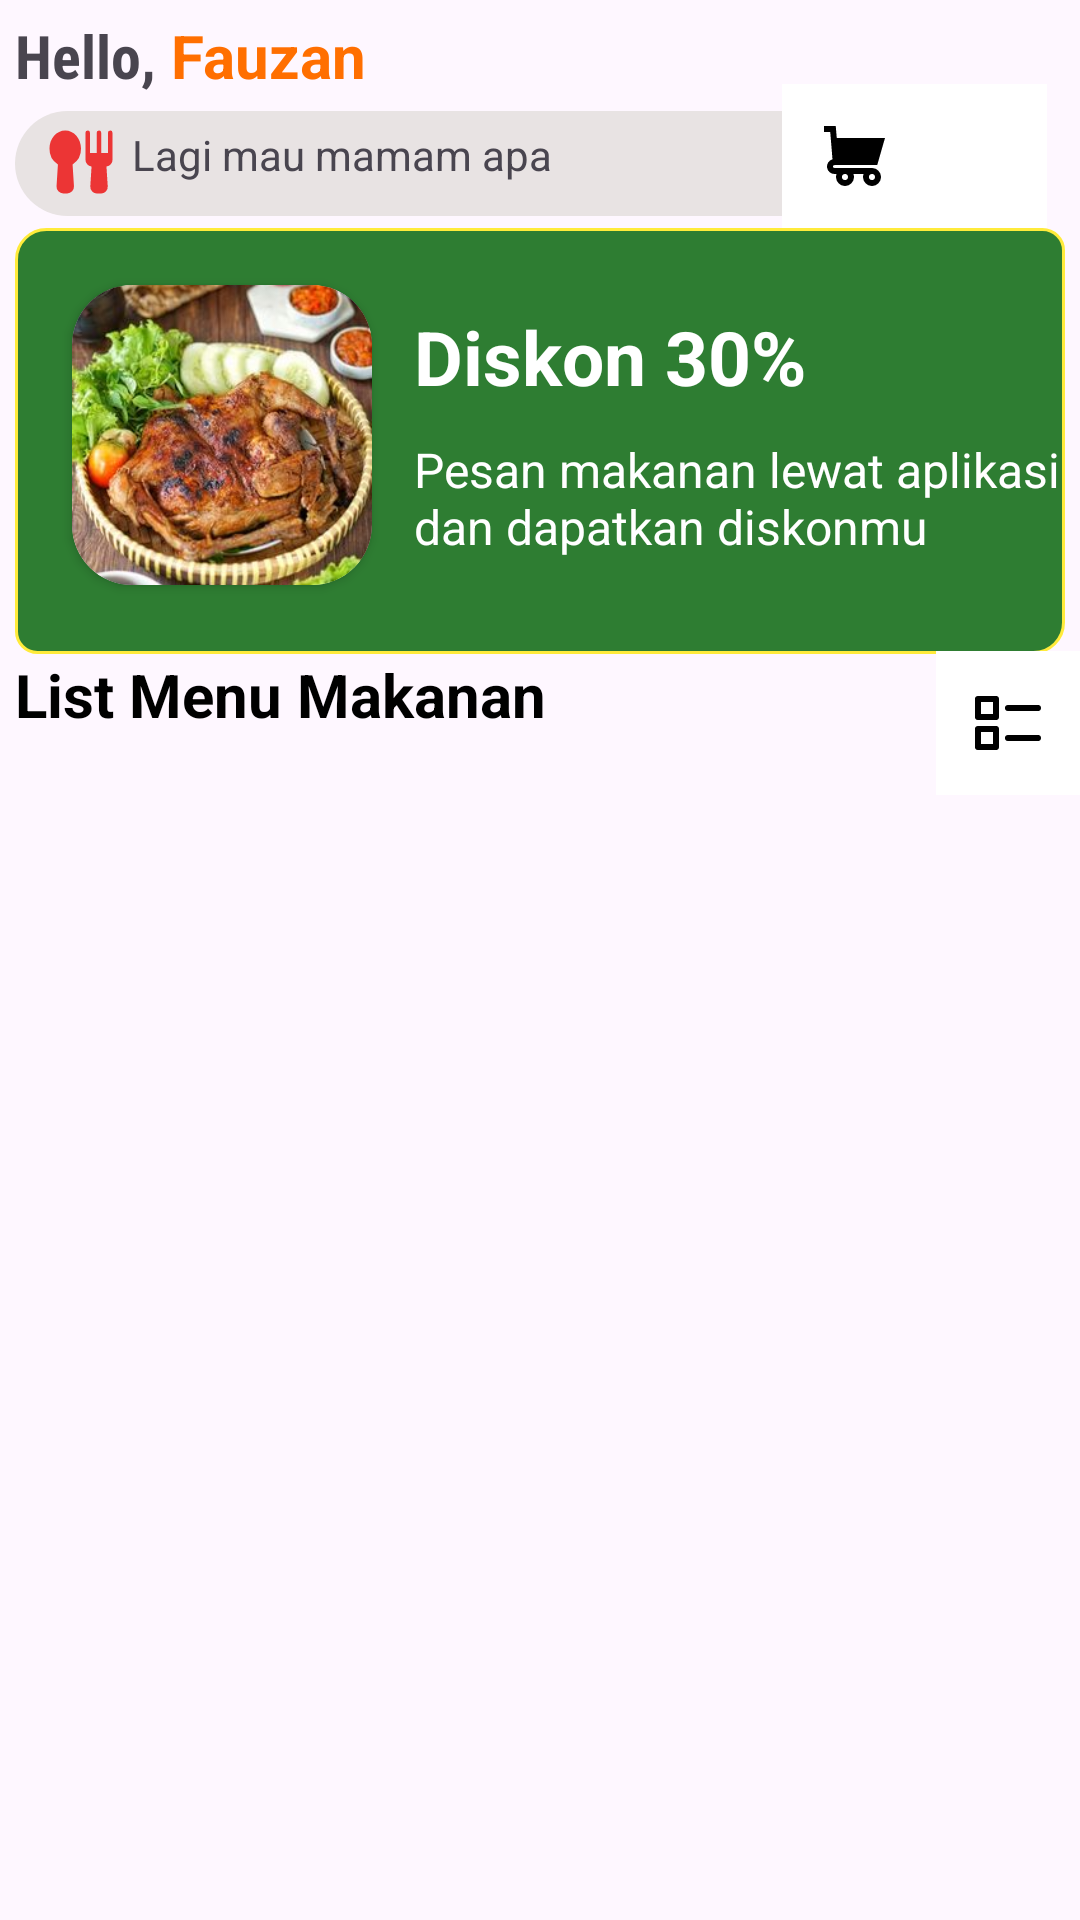

Icon bounding boxes for this 1080×1920 phone screenshot, format region(x1, y1, x2, y2):
button grid dan list: region(975, 696, 1041, 750)
gambar makanan: region(72, 285, 372, 585)
Tombol untuk belanja: region(824, 126, 885, 186)
